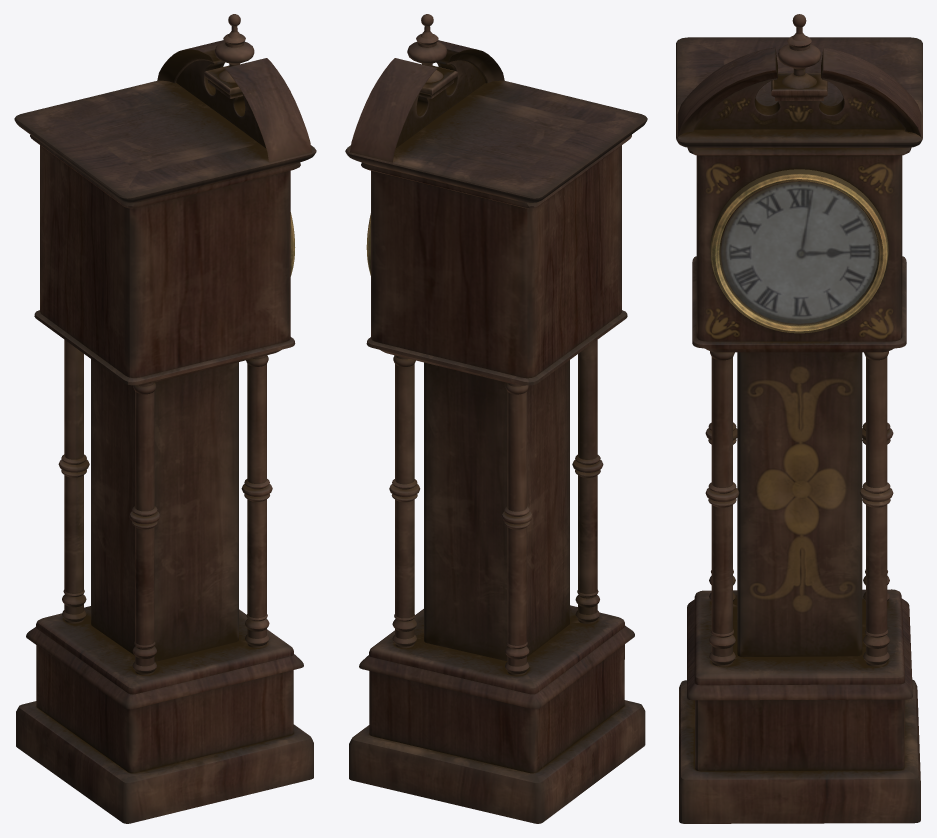
Rendered from old_clock.glb.
3 renders of one model, left to right at view 1: azimuth 30°, elevation 25°; view 2: azimuth 150°, elevation 25°; view 3: azimuth 270°, elevation 25°, orthographic. The views are drawn at different scales.
Visible parts, largest first — view 1: clock_L; view 2: clock_L; view 3: clock_L.
Boxes of the visible parts, x1=… form: clock_L: x1=14, y1=14, x2=316, y2=823; clock_L: x1=345, y1=14, x2=647, y2=823; clock_L: x1=676, y1=14, x2=922, y2=823.
Bounding box in the file's own units: 138 × 491 × 138.
Materials: 2 (2 with a texture image).
